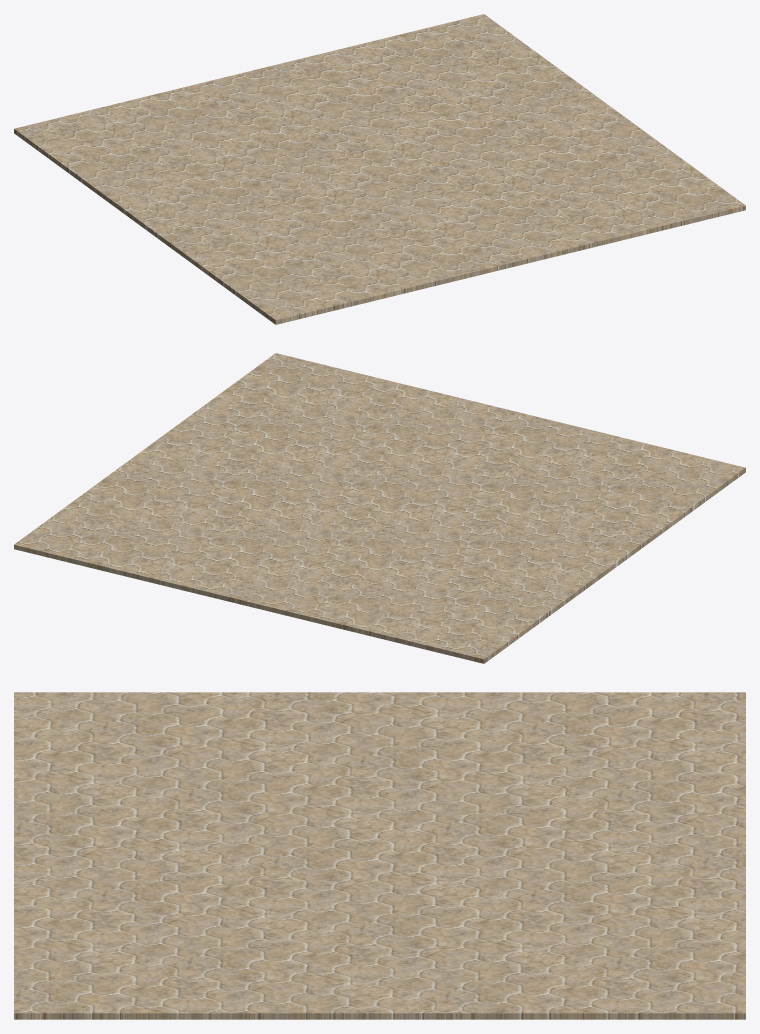
3 renders of one model, top to bottom at view 1: azimuth 30°, elevation 25°; view 2: azimuth 150°, elevation 25°; view 3: azimuth 270°, elevation 25°, orthographic. The views are drawn at different scales.
Visible parts, largest first — view 1: Cube.002; view 2: Cube.002; view 3: Cube.002.
Boxes of the visible parts, box(x1,y1,x2,y2) form: Cube.002: box(14, 14, 745, 324); Cube.002: box(14, 353, 745, 663); Cube.002: box(14, 692, 745, 1019).
Bounding box in the file's own units: 1096 × 10.2 × 1057.
Materials: 1 (1 with a texture image).
